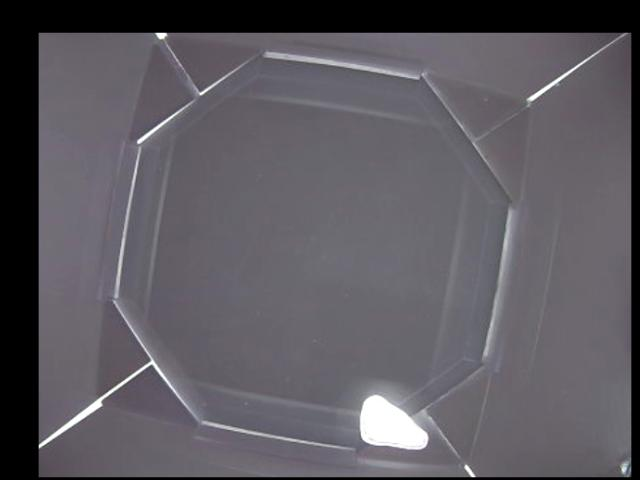Pebble: (358, 393, 427, 450)
